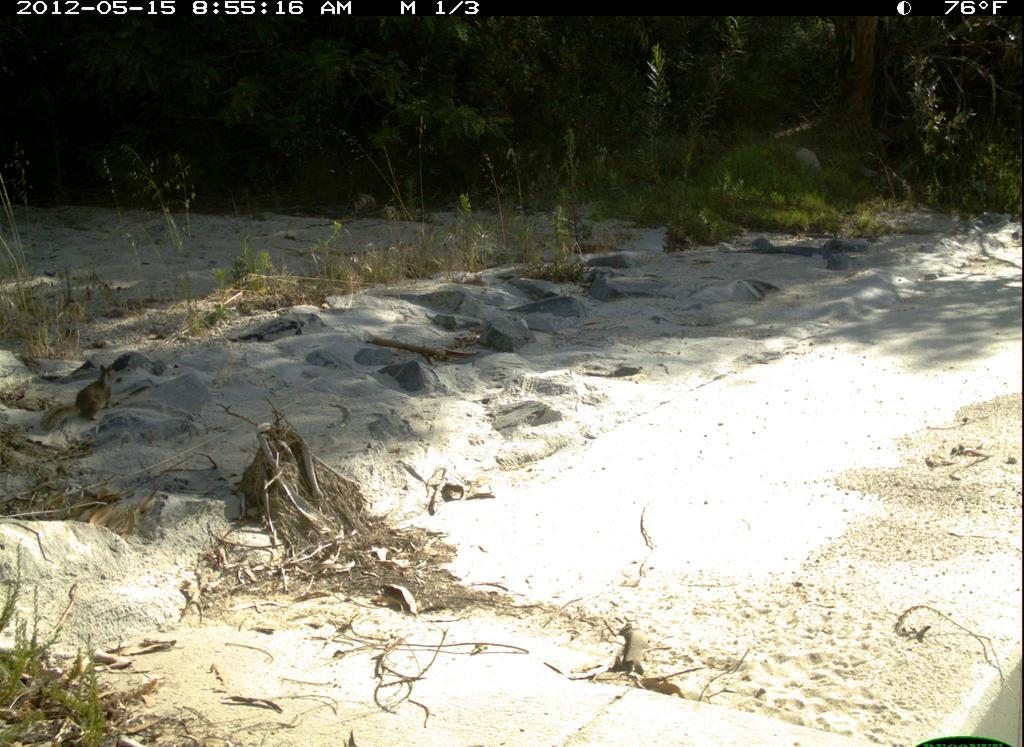squirrel: (35, 363, 132, 438)
